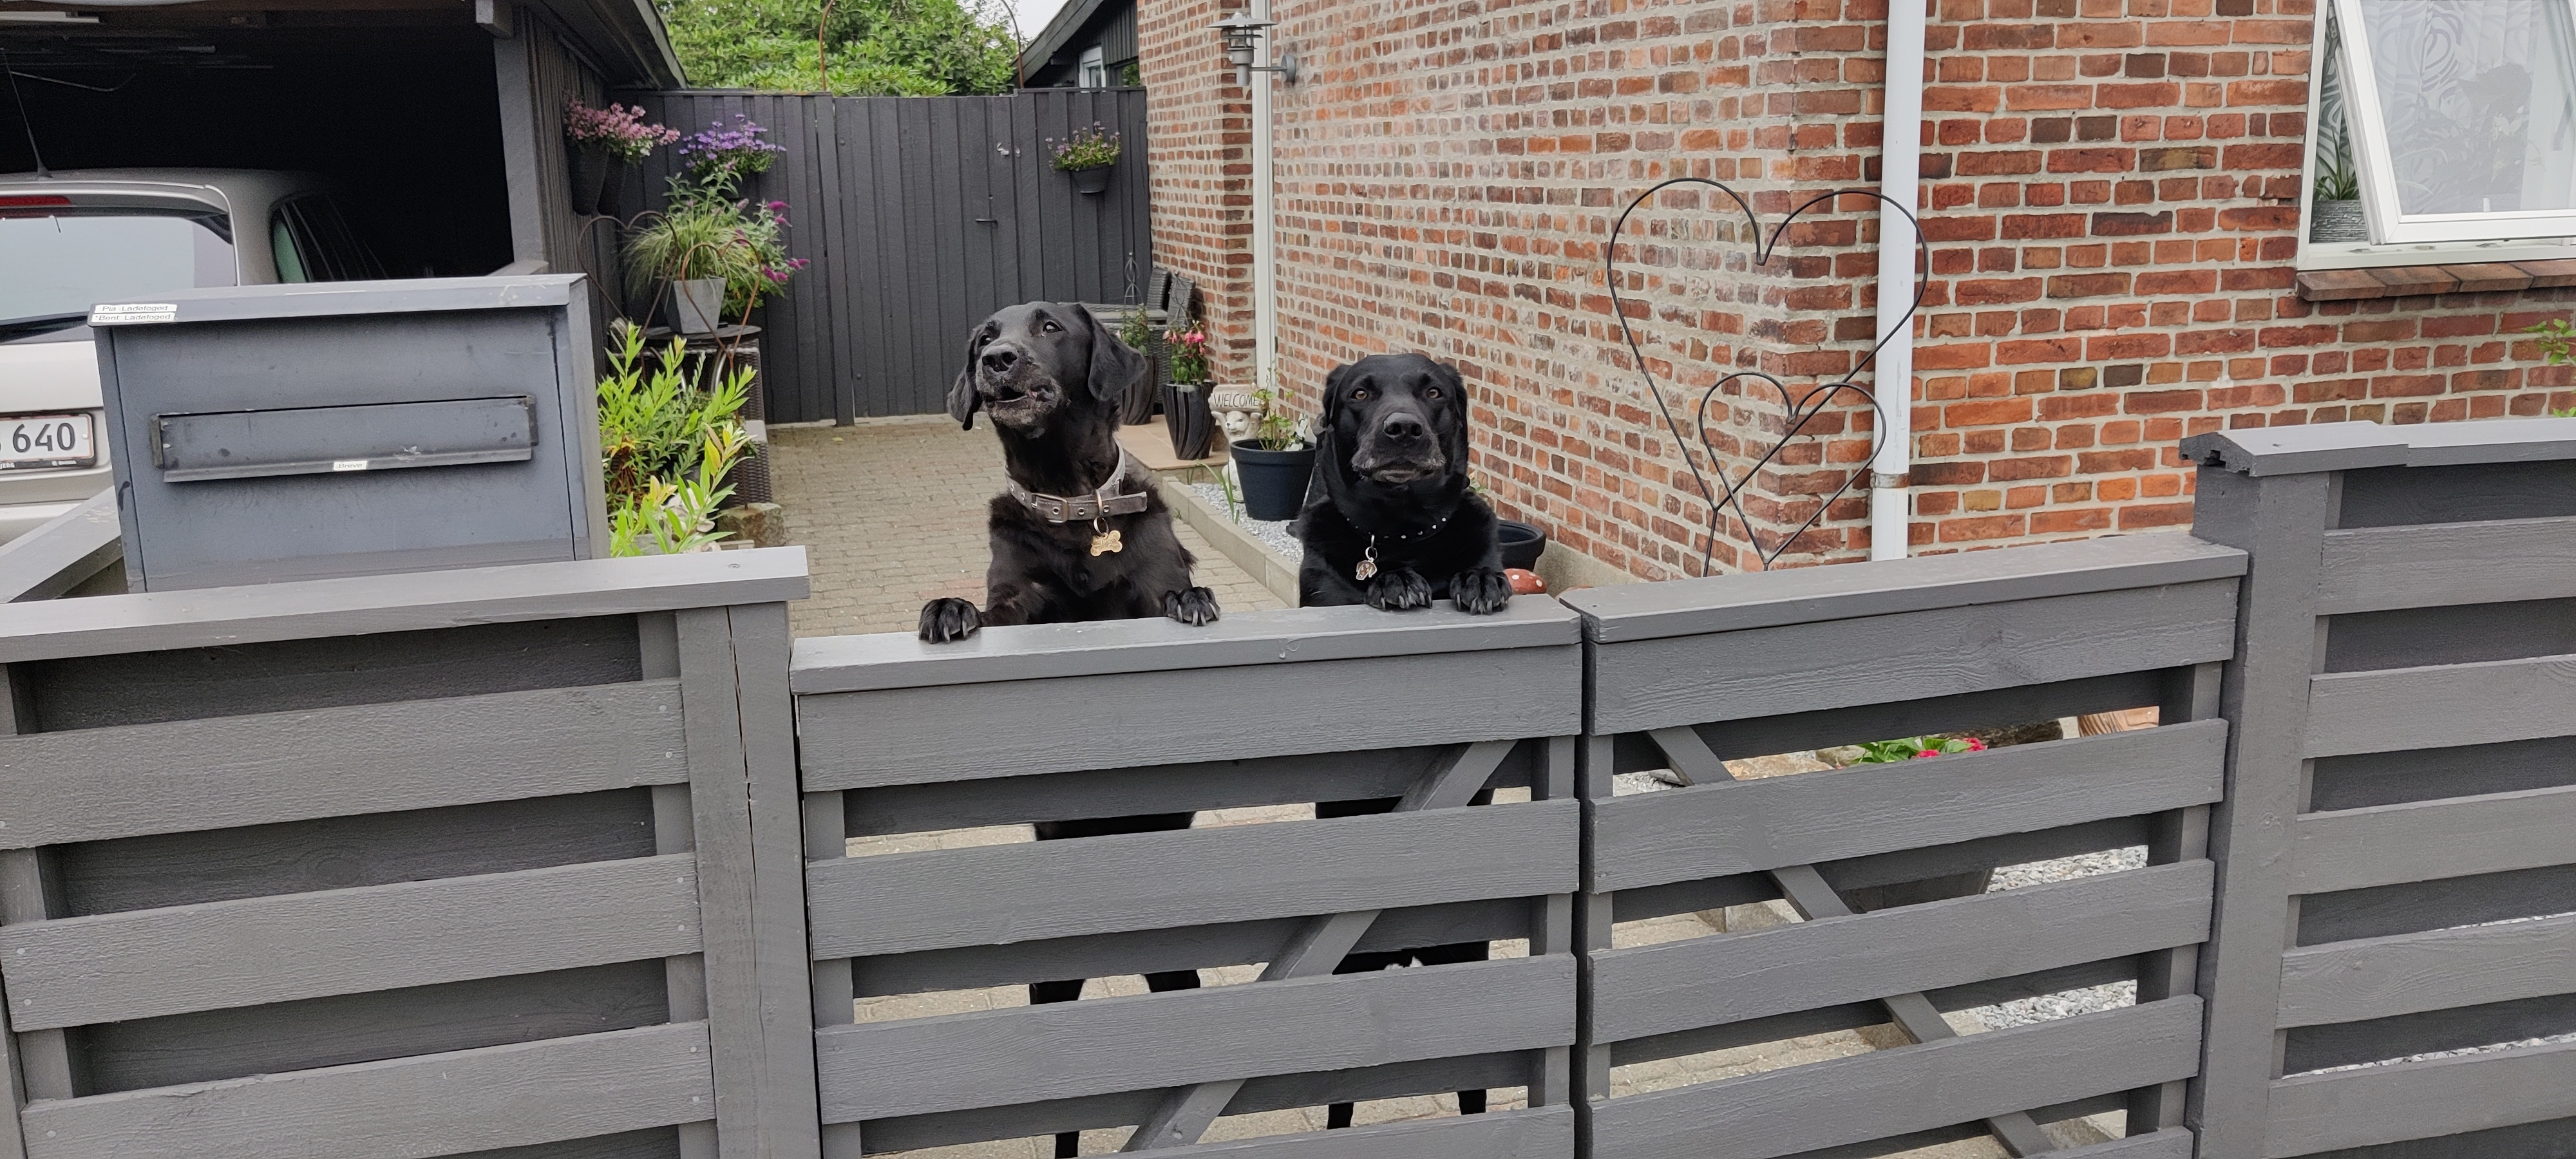Dog: (910, 287, 1234, 1159), (1280, 338, 1531, 1159)
